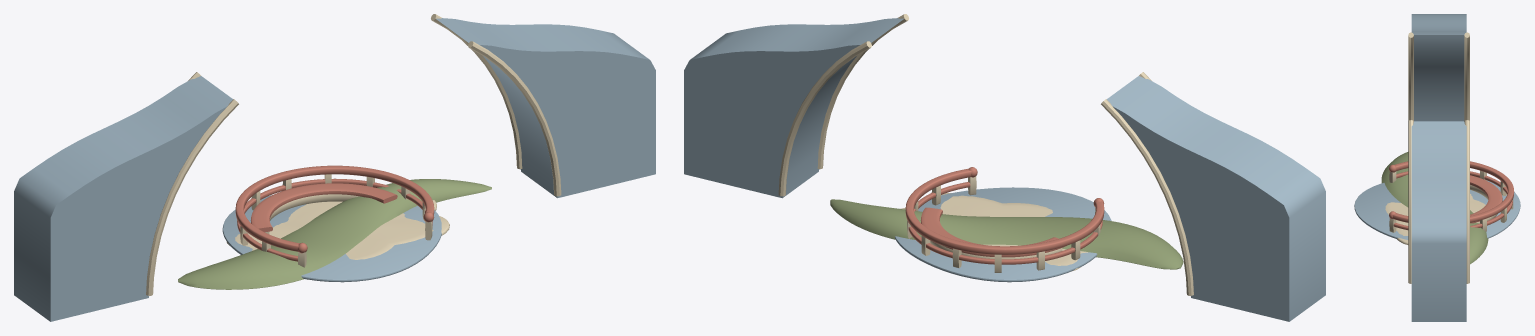
Rendered from playroom-floor-modules.glb.
3 renders of one model, left to right at view 1: azimuth 30°, elevation 25°; view 2: azimuth 150°, elevation 25°; view 3: azimuth 270°, elevation 25°, orthographic. The views are drawn at different scales.
Visible parts, largest first — view 1: RainbowWallJoin — Faded blue soft vinyl, SoftMeadowBerm — Meadow grass carpet, PaddedFenceIsland — Faded coral fabric, PaddedFenceIsland — Faded blue soft vinyl, RainbowWallJoin — Cream soft padding, CloudCarpet — Cream soft padding, PaddedFenceIsland — Cream plastic post; view 2: RainbowWallJoin — Faded blue soft vinyl, SoftMeadowBerm — Meadow grass carpet, PaddedFenceIsland — Faded blue soft vinyl, PaddedFenceIsland — Faded coral fabric, RainbowWallJoin — Cream soft padding, CloudCarpet — Cream soft padding, PaddedFenceIsland — Cream plastic post; view 3: RainbowWallJoin — Faded blue soft vinyl, RainbowWallJoin — Cream soft padding, PaddedFenceIsland — Faded blue soft vinyl, PaddedFenceIsland — Faded coral fabric, SoftMeadowBerm — Meadow grass carpet, PaddedFenceIsland — Cream plastic post, CloudCarpet — Cream soft padding.
Boxes of the visible parts, x1,y1,x2,y2 form: RainbowWallJoin — Faded blue soft vinyl: (14,18,655,321); SoftMeadowBerm — Meadow grass carpet: (178,179,491,289); PaddedFenceIsland — Faded coral fabric: (235,165,434,261); PaddedFenceIsland — Faded blue soft vinyl: (222,195,441,282); RainbowWallJoin — Cream soft padding: (146,14,561,295); CloudCarpet — Cream soft padding: (226,200,449,259); PaddedFenceIsland — Cream plastic post: (237,174,432,267); RainbowWallJoin — Faded blue soft vinyl: (684,18,1325,321); SoftMeadowBerm — Meadow grass carpet: (830,199,1183,269); PaddedFenceIsland — Faded blue soft vinyl: (895,187,1111,282); PaddedFenceIsland — Faded coral fabric: (905,167,1104,264); RainbowWallJoin — Cream soft padding: (778,14,1193,295); CloudCarpet — Cream soft padding: (900,193,1087,271); PaddedFenceIsland — Cream plastic post: (907,176,1100,272); RainbowWallJoin — Faded blue soft vinyl: (1411,14,1466,321); RainbowWallJoin — Cream soft padding: (1408,32,1469,283); PaddedFenceIsland — Faded blue soft vinyl: (1354,180,1520,239); PaddedFenceIsland — Faded coral fabric: (1389,161,1514,230); SoftMeadowBerm — Meadow grass carpet: (1381,152,1488,264); PaddedFenceIsland — Cream plastic post: (1389,170,1513,232); CloudCarpet — Cream soft padding: (1385,194,1485,244).
Size of the model in its own units: 22 by 6.18 by 6.93.
